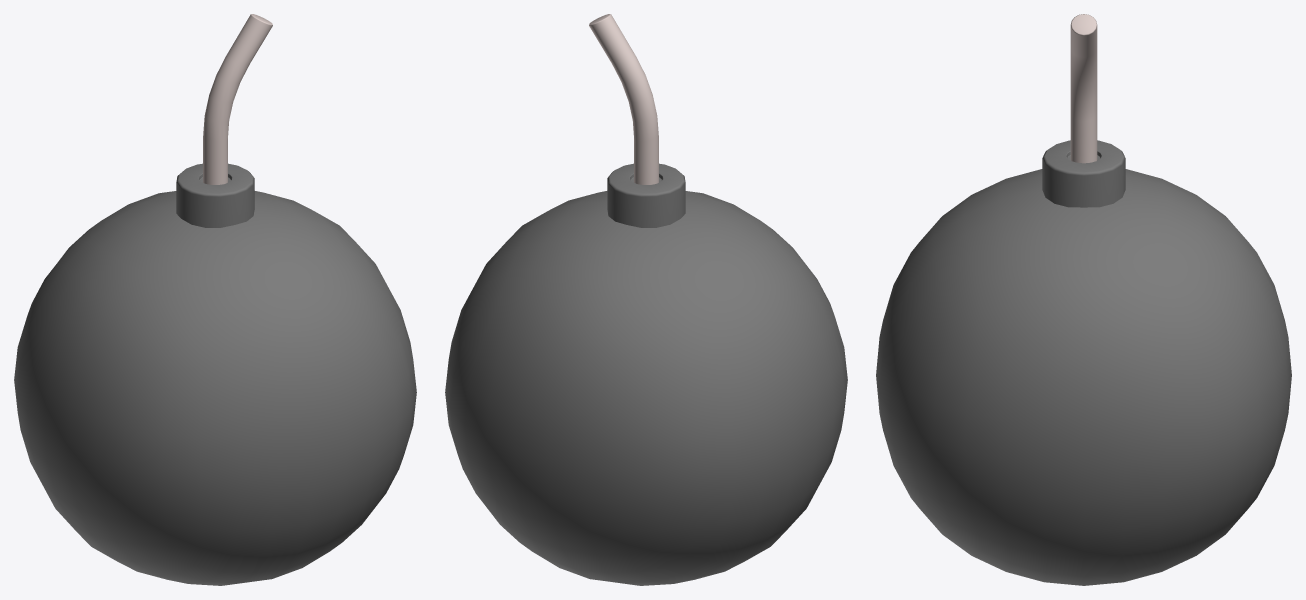
File: Public_14_Cannonball_1.glb
3 renders of one model, left to right at view 1: azimuth 30°, elevation 25°; view 2: azimuth 150°, elevation 25°; view 3: azimuth 270°, elevation 25°, orthographic. The views are drawn at different scales.
Visible parts, largest first — view 1: Public_14_Cannonball_1; view 2: Public_14_Cannonball_1; view 3: Public_14_Cannonball_1.
Part boxes in pixels (box(x1,y1,x2,y2)): Public_14_Cannonball_1: box(14, 14, 416, 585); Public_14_Cannonball_1: box(445, 14, 847, 585); Public_14_Cannonball_1: box(876, 14, 1291, 585).
Bounding box in the file's own units: 0.4467 × 0.6744 × 0.4467.
Materials: 1 (1 with a texture image).
